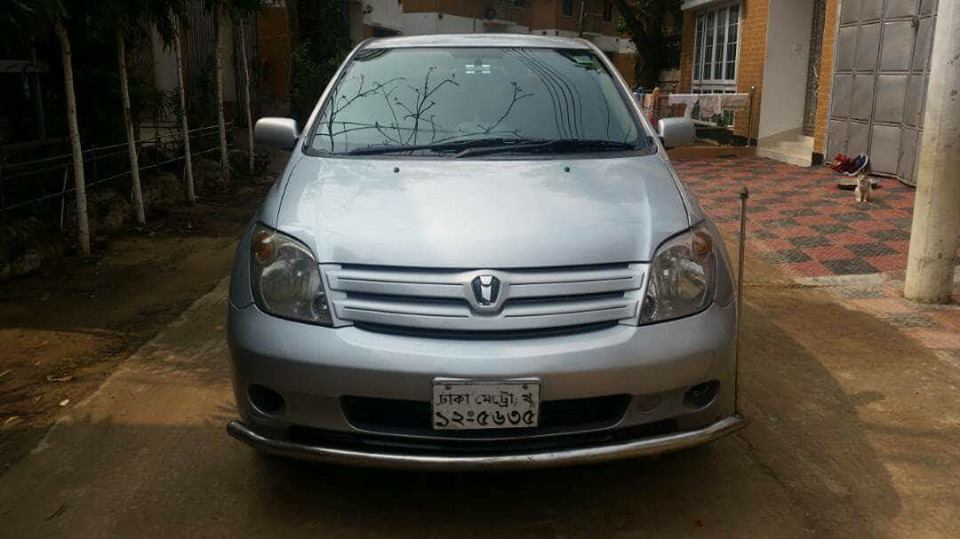registration_plate: (432, 376, 542, 429)
